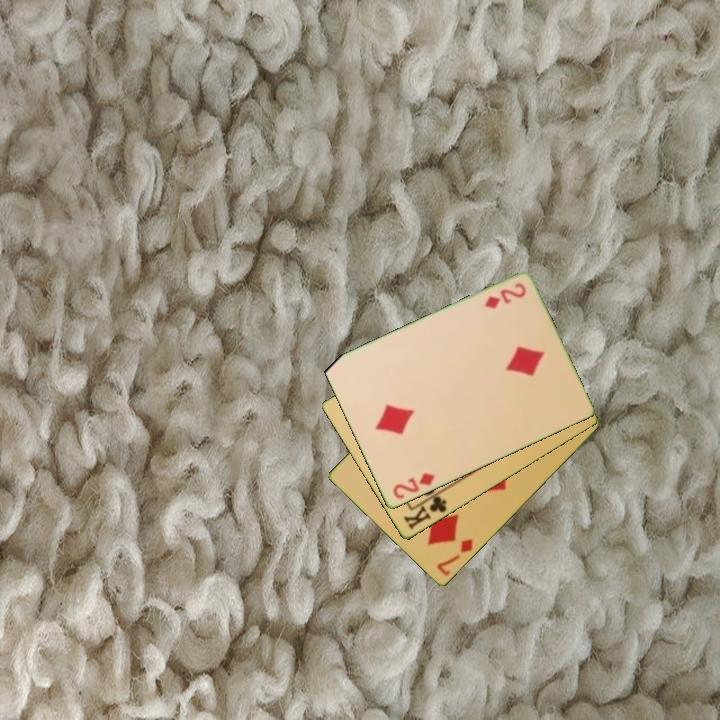2d: (389, 470, 437, 502), (481, 280, 529, 312)
7d: (433, 535, 476, 580)
Kc: (400, 488, 450, 533)
